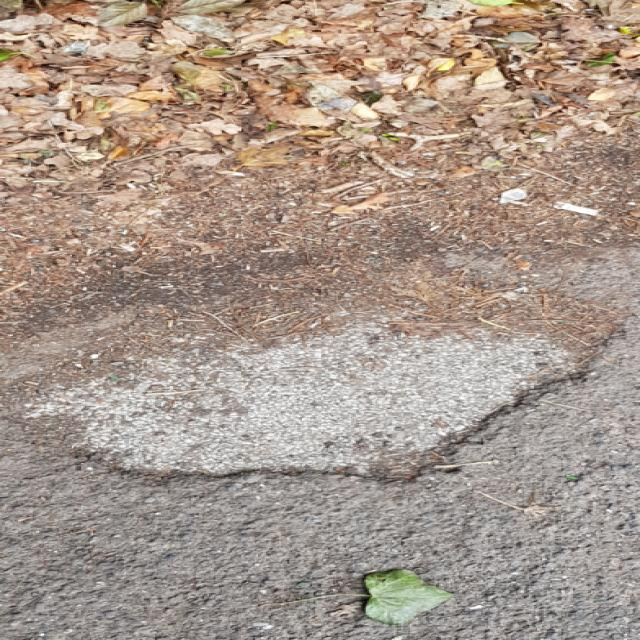Pothole: (16, 275, 632, 493)
